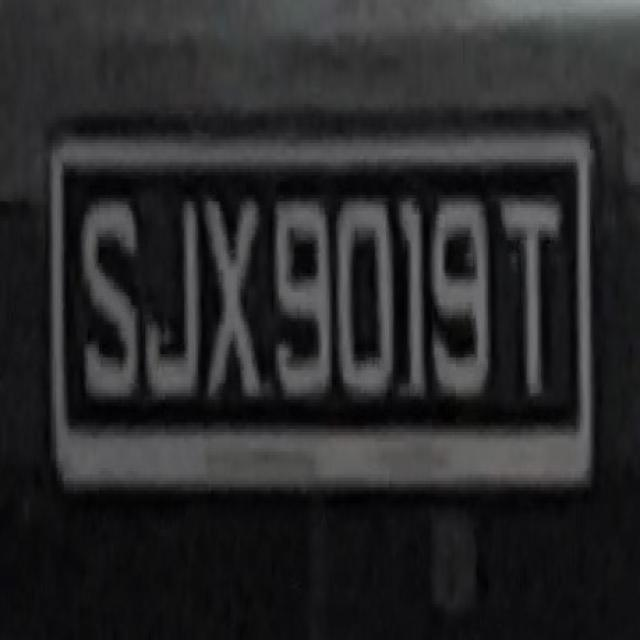0: (335, 185, 400, 400)
1: (398, 192, 426, 393)
9: (269, 188, 332, 400), (431, 202, 492, 400)
J: (141, 198, 205, 393)
S: (80, 188, 140, 403)
T: (496, 185, 544, 422)
X: (201, 182, 263, 406)
